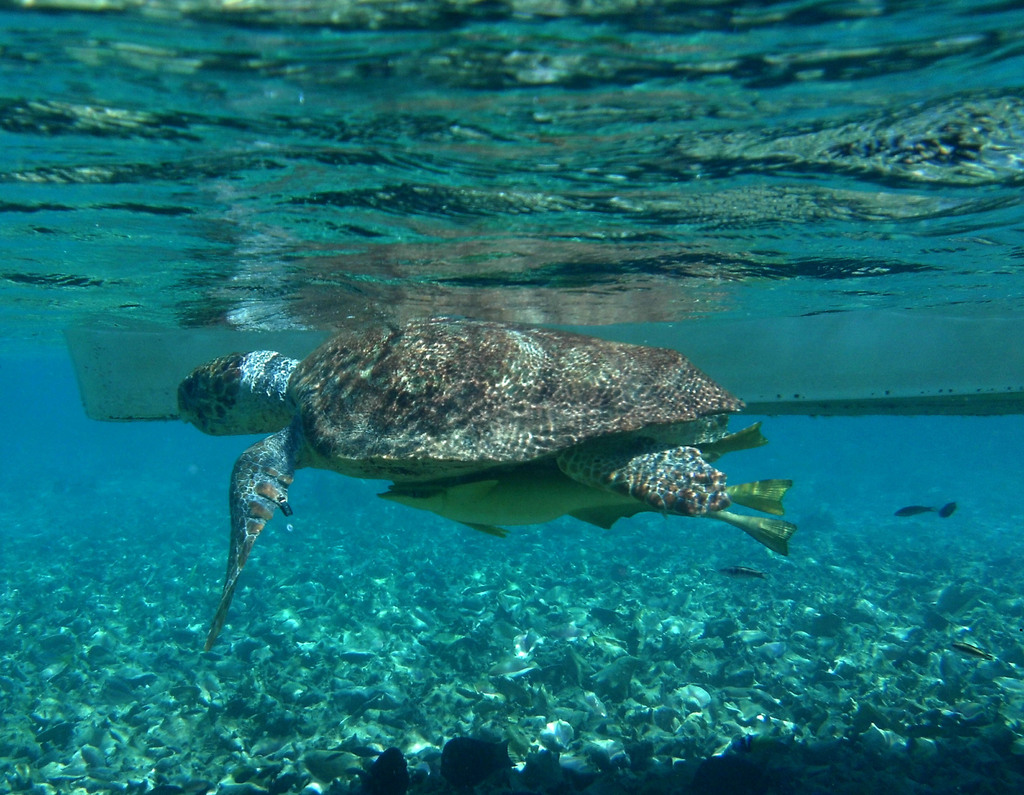Sea turtles: (175, 311, 743, 658)
